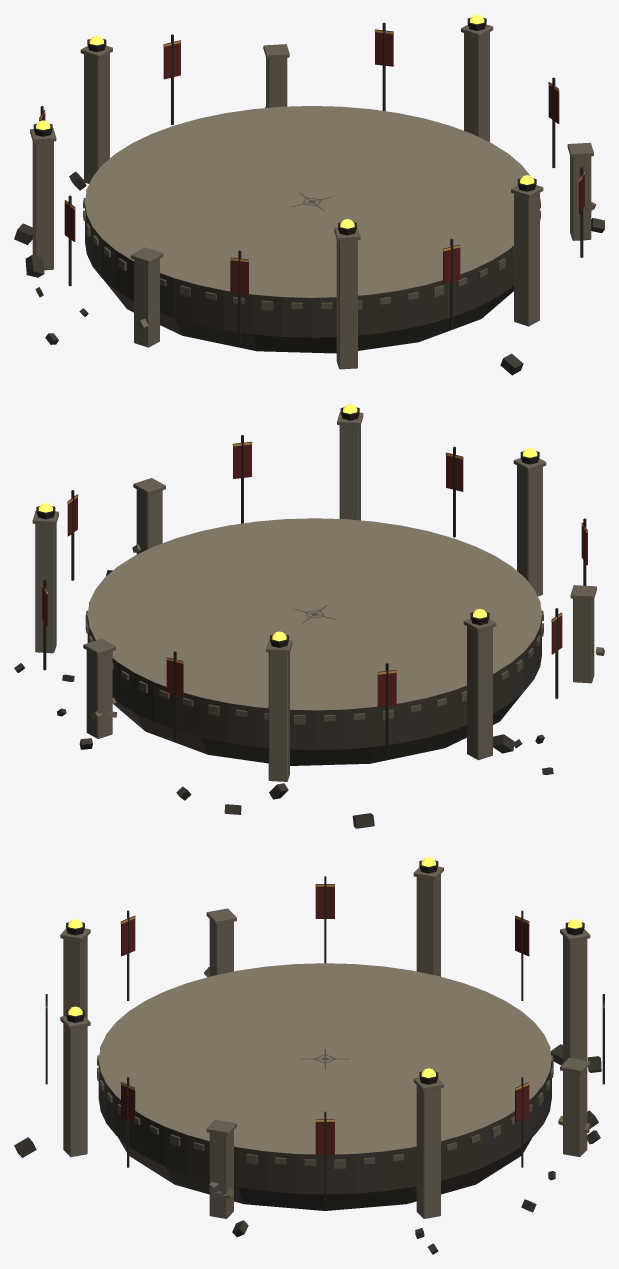
Rendered from standard_arena.glb.
3 renders of one model, top to bottom at view 1: azimuth 30°, elevation 25°; view 2: azimuth 150°, elevation 25°; view 3: azimuth 270°, elevation 25°, orthographic.
Visible parts, largest first — view 1: PlatformTop, PlatformCliff, PlatformUnderside, Pillar6, Pillar2, Pillar5, Pillar3, Pillar0, Pillar4, Pillar7, Pillar1, Banner0 (+3 smaller); view 2: PlatformTop, PlatformCliff, PlatformUnderside, Pillar3, Pillar5, Pillar2, Pillar0, Pillar1, Pillar6, Pillar4, Pillar7, Banner2 (+2 smaller); view 3: PlatformTop, PlatformCliff, PlatformUnderside, Pillar0, Pillar6, Pillar2, Pillar3, Pillar1, Pillar7, Pillar5, Pillar4, Banner7 (+1 smaller).
Boxes of the visible parts, x1=… form: PlatformTop: x1=85, y1=106, x2=530, y2=297; PlatformCliff: x1=85, y1=204, x2=513, y2=337; PlatformUnderside: x1=104, y1=280, x2=513, y2=353; Pillar6: x1=514, y1=193, x2=539, y2=326; Pillar2: x1=84, y1=53, x2=109, y2=183; Pillar5: x1=336, y1=240, x2=357, y2=369; Pillar3: x1=32, y1=141, x2=53, y2=270; Pillar0: x1=464, y1=32, x2=489, y2=141; Pillar4: x1=134, y1=259, x2=159, y2=347; Pillar7: x1=570, y1=156, x2=591, y2=240; Pillar1: x1=266, y1=57, x2=287, y2=107; Banner0: x1=375, y1=29, x2=393, y2=66; PlatformTop: x1=87, y1=518, x2=541, y2=710; PlatformCliff: x1=87, y1=616, x2=541, y2=750; PlatformUnderside: x1=113, y1=692, x2=523, y2=765; Pillar3: x1=467, y1=626, x2=492, y2=760; Pillar5: x1=517, y1=465, x2=542, y2=596; Pillar2: x1=268, y1=652, x2=289, y2=781; Pillar0: x1=35, y1=523, x2=56, y2=653; Pillar1: x1=86, y1=650, x2=112, y2=738; Pillar6: x1=339, y1=425, x2=360, y2=520; Pillar4: x1=573, y1=598, x2=594, y2=683; Pillar7: x1=136, y1=489, x2=162, y2=554; Banner2: x1=377, y1=670, x2=396, y2=707; PlatformTop: x1=98, y1=963, x2=551, y2=1154; PlatformCliff: x1=98, y1=1059, x2=551, y2=1194; PlatformUnderside: x1=118, y1=1137, x2=532, y2=1210; Pillar0: x1=416, y1=1085, x2=440, y2=1218; Pillar6: x1=63, y1=1024, x2=87, y2=1156; Pillar2: x1=563, y1=936, x2=587, y2=1062; Pillar3: x1=416, y1=874, x2=440, y2=976; Pillar1: x1=563, y1=1068, x2=587, y2=1156; Pillar7: x1=209, y1=1130, x2=233, y2=1218; Pillar5: x1=63, y1=936, x2=87, y2=1018; Pillar4: x1=209, y1=919, x2=233, y2=976; Banner7: x1=315, y1=1119, x2=334, y2=1154.
Bounding box in the file's own units: 21.14 × 7.51 × 21.57.
